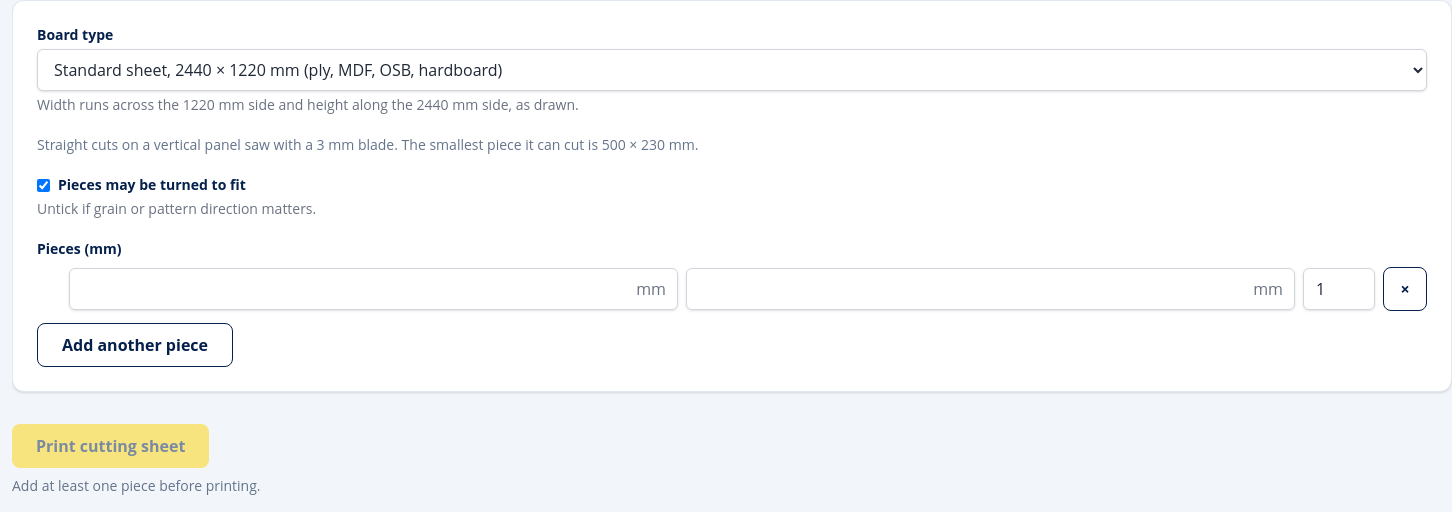
Test case: BoardCuttingCalculator › hides the rotation option for worktops, which only cut to length
Check: the checkbox labelled "Pieces may be turned to fit" is checked, box [37, 178, 50, 192]
Select "Worktop, 3000 × 600 × 38 mm (cut to length only)" in the dropdown labelled "Board type" at (732, 70), box [37, 49, 1427, 91]
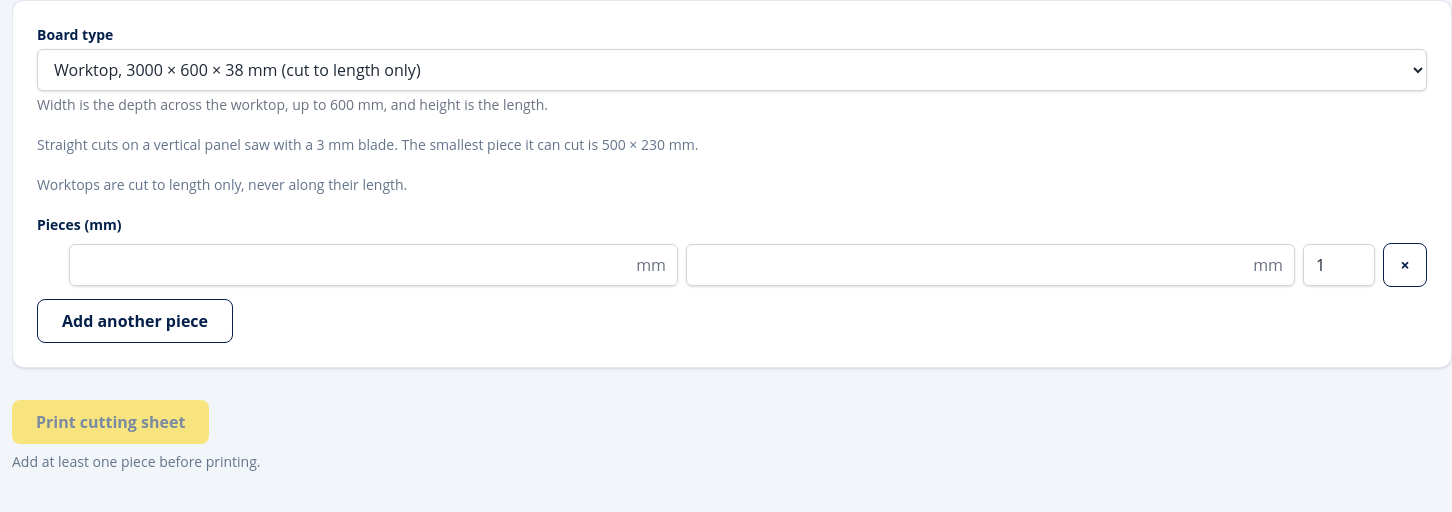
Check: the label labelled "Pieces may be turned to fit" is gone
